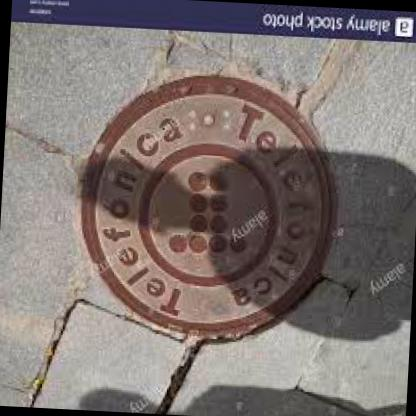manholes: (57, 48, 362, 368)
